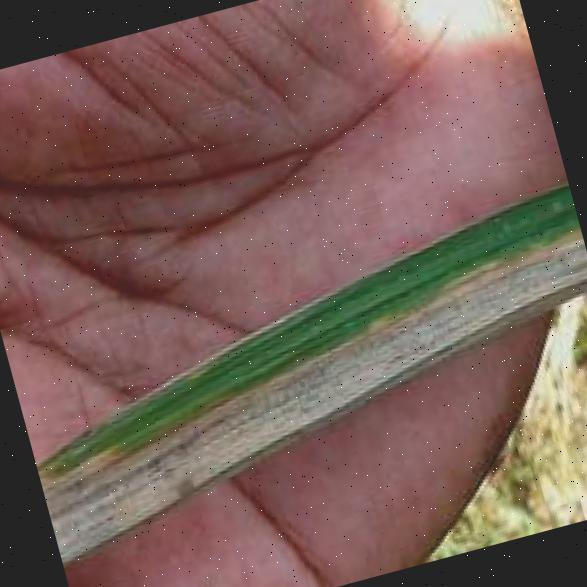Bacteria_Leaf_Blight: (40, 248, 587, 530)
